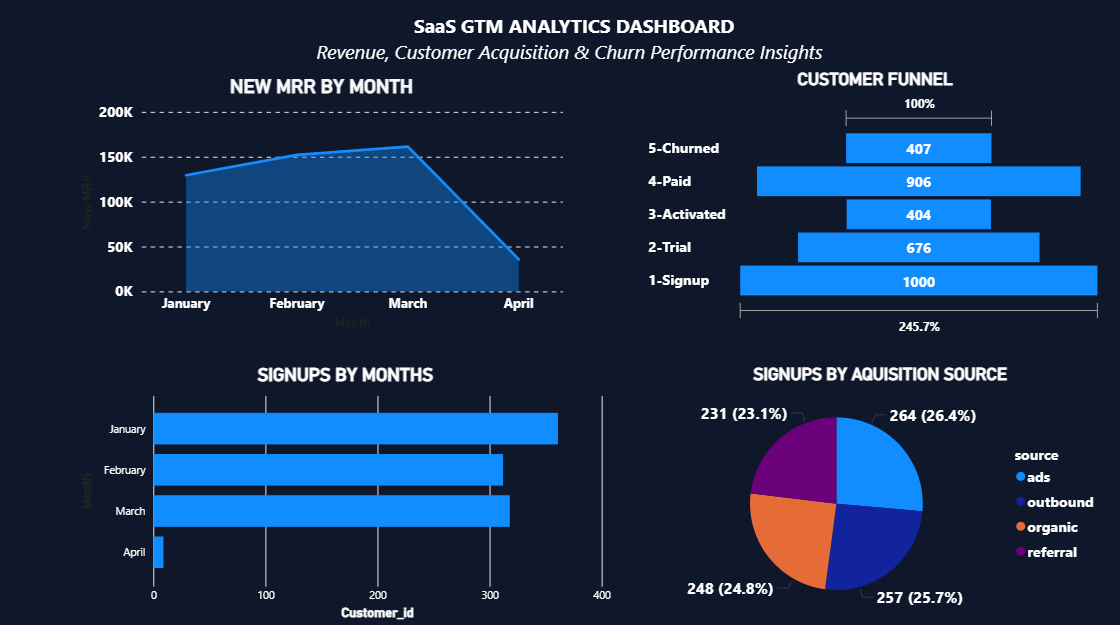

The page's visual inventory and layout, read from the dashboard file:
{"tool":"powerbi","page":{"name":"Acquisition & Funnel","canvas":[1280,720],"ordinal":0},"visuals":[{"type":"lineChart","title":"NEW MRR BY MONTH","fields":{"Y":["Sum(saasgtm cleaned_subscriptions.monthly_price)"],"Category":["saasgtm cleaned_subscriptions.start_date.Variation.Date Hierarchy.Month"]},"box":[96.8,92.6,552.5,290.3],"z":0},{"type":"funnel","title":"CUSTOMER FUNNEL","fields":{"Category":["Funnel.Stage"],"Y":["Sum(Funnel.Customers)"]},"box":[734.8,85.5,518.8,304.3],"z":1000},{"type":"clusteredBarChart","title":"SIGNUPS BY MONTHS","fields":{"Category":["saasgtm cleaned_events.event_date.Variation.Date Hierarchy.Month"],"Y":["CountNonNull(saasgtm cleaned_events.customer_id)"]},"box":[96.8,416.5,605.8,291.7],"z":2000},{"type":"pieChart","title":"SIGNUPS BY AQUISITION SOURCE","fields":{"Category":["saasgtm cleaned_events.source"],"Y":["CountNonNull(saasgtm cleaned_events.customer_id)"]},"box":[746,416.5,507.6,291.7],"z":3000},{"type":"textbox","box":[99.6,11.2,1107.8,81.3],"z":3001}]}

Visuals, with their boxes in screenshot pixels (x1, y1, x2, y2), scaled from the page's 1280x720 canvas onto the 1120x625 screenshot:
"NEW MRR BY MONTH" lineChart: locate(85, 80, 568, 332)
"CUSTOMER FUNNEL" funnel: locate(643, 74, 1097, 338)
"SIGNUPS BY MONTHS" clusteredBarChart: locate(85, 362, 615, 615)
"SIGNUPS BY AQUISITION SOURCE" pieChart: locate(653, 362, 1097, 615)
textbox: locate(87, 10, 1056, 80)
